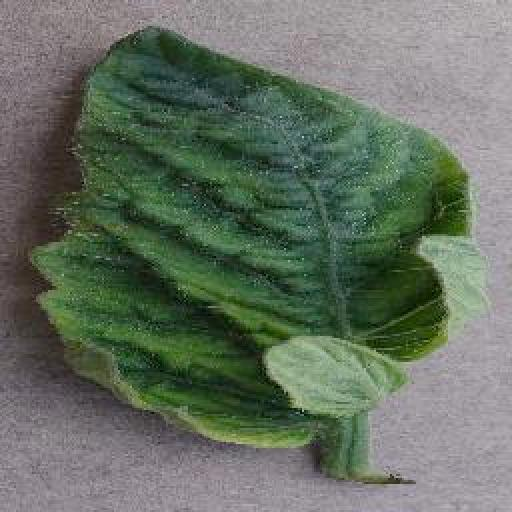disease_tomato: (26, 22, 484, 452)
